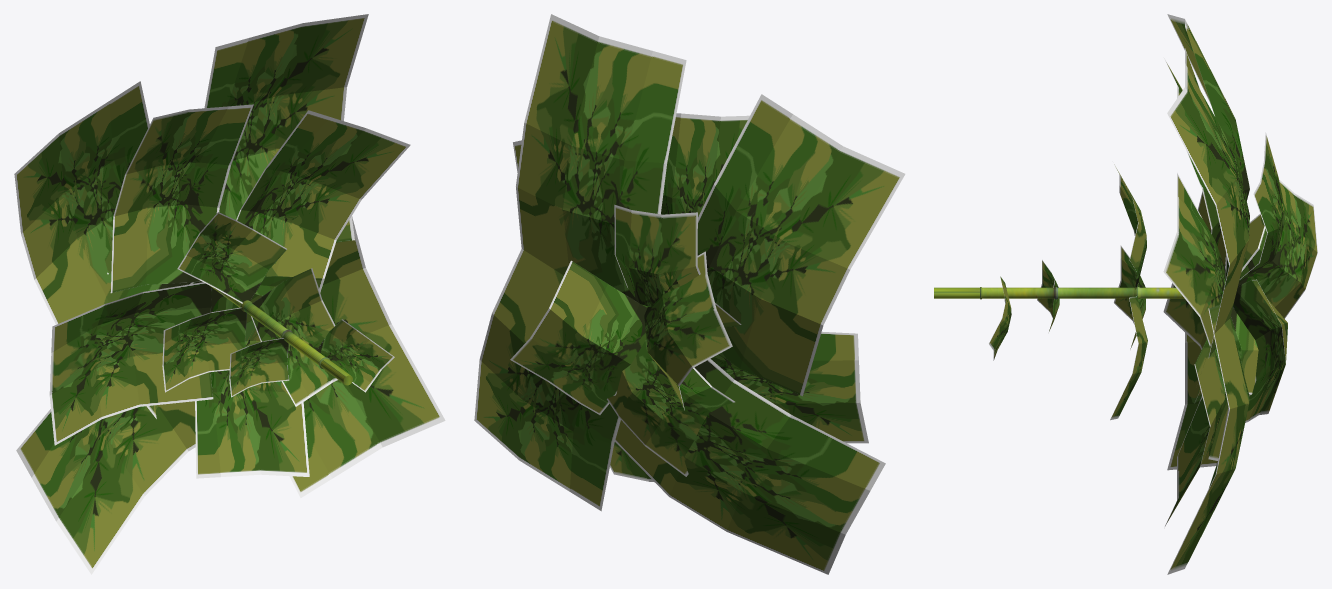
The model's file is BamboojointedLOD 1.fbx.
3 views of the same model, side by side, from view 1: azimuth 30°, elevation 25°; view 2: azimuth 150°, elevation 25°; view 3: azimuth 270°, elevation 25° (orthographic).
Parts seen in each view (by area): view 1: BambooStraight_mesh_LOD0; view 2: BambooStraight_mesh_LOD0; view 3: BambooStraight_mesh_LOD0.
Boxes of the visible parts, x1=… form: BambooStraight_mesh_LOD0: x1=14, y1=14, x2=445, y2=574; BambooStraight_mesh_LOD0: x1=474, y1=14, x2=905, y2=574; BambooStraight_mesh_LOD0: x1=934, y1=14, x2=1317, y2=574.
Size of what is drawn, in the model's own units: 3432 by 3752 by 2652.
